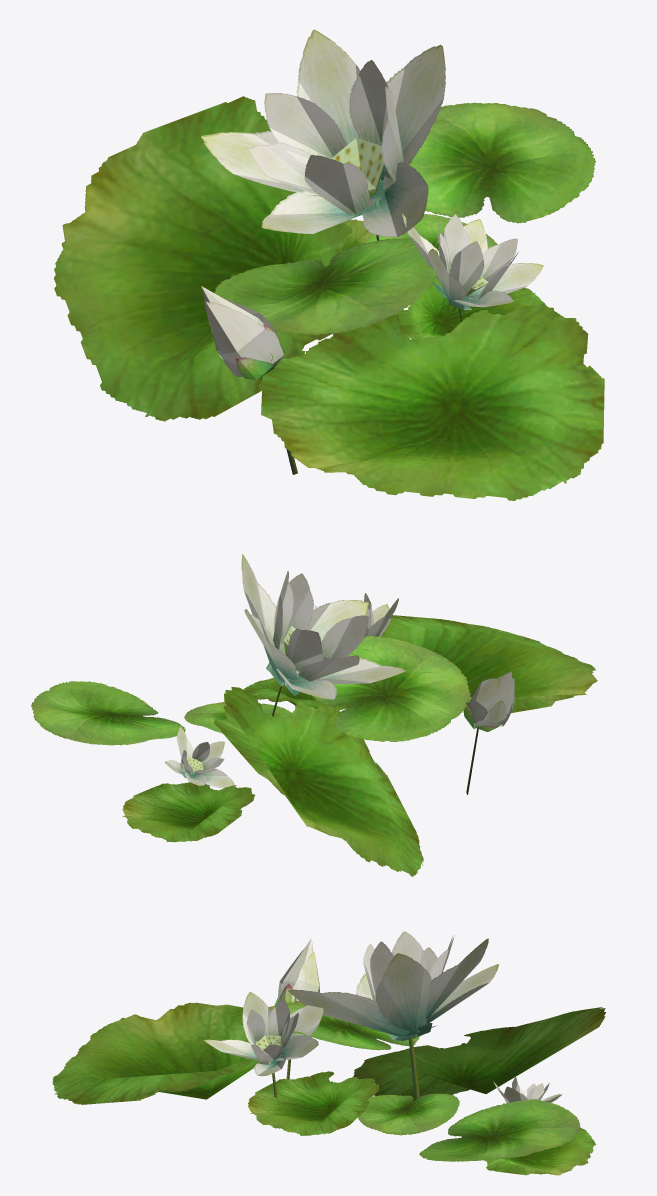
File: yzc_hehua03.FBX
The picture shows the model from 3 angles, top to bottom: view 1: azimuth 30°, elevation 25°; view 2: azimuth 150°, elevation 25°; view 3: azimuth 270°, elevation 25°; orthographic projection. The views are drawn at different scales.
Parts seen in each view (by area): view 1: yzc_hehua03; view 2: yzc_hehua03; view 3: yzc_hehua03.
Part boxes in pixels (left/top/right/bottom): yzc_hehua03: left=54, top=29, right=604, bottom=500; yzc_hehua03: left=31, top=554, right=597, bottom=876; yzc_hehua03: left=52, top=931, right=605, bottom=1175.
Bounding box in the file's own units: 88.76 × 53.44 × 109.
